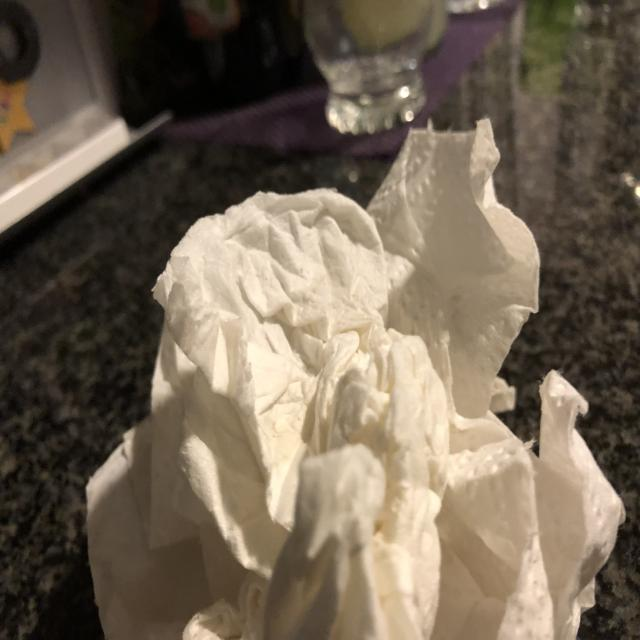kitchen paper: (74, 169, 444, 640), (363, 110, 635, 640)
